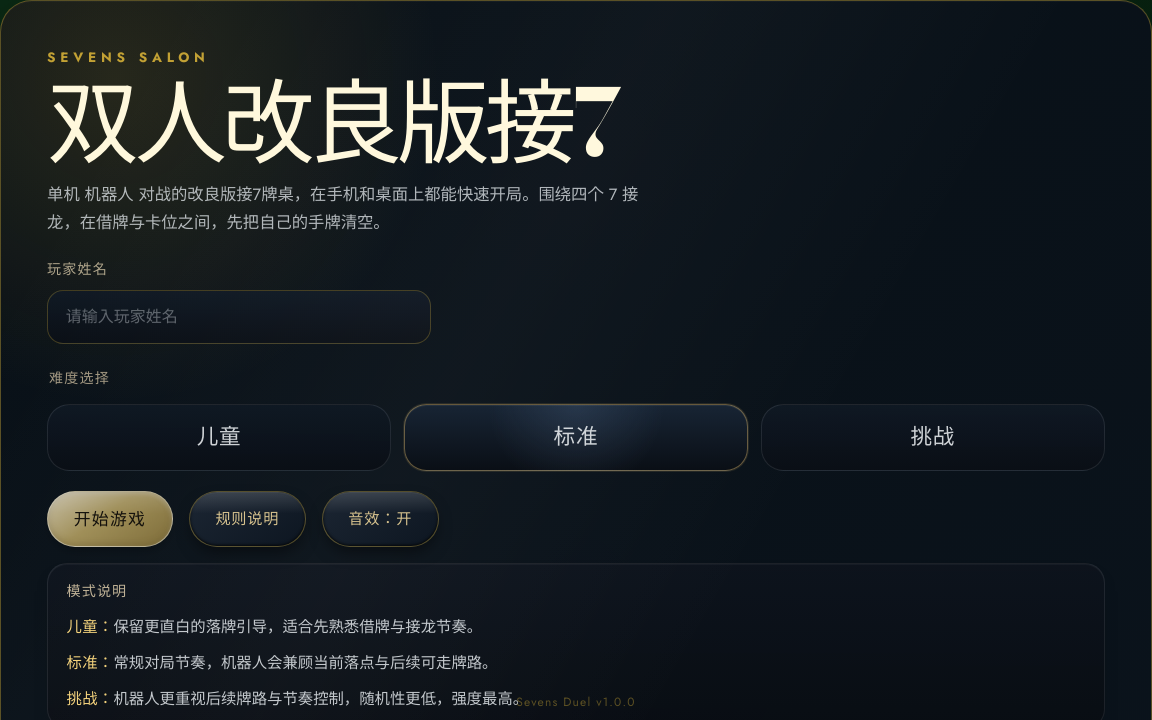
Test case: starts a game after selecting a difficulty and entering a player name
Click the radio button labelled "儿童".
click(219, 437)  # box [47,404,391,471]
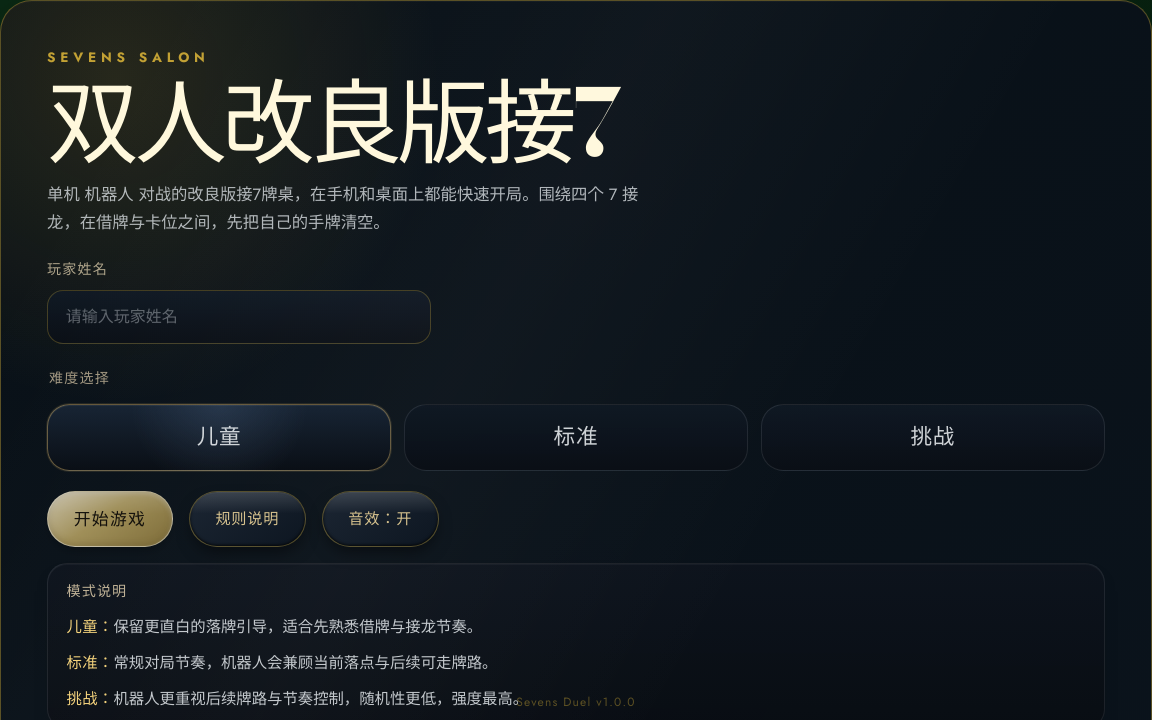
Type "张三" into the field labelled "玩家姓名".
click(239, 317); type("张三")  # box [47,290,431,344]
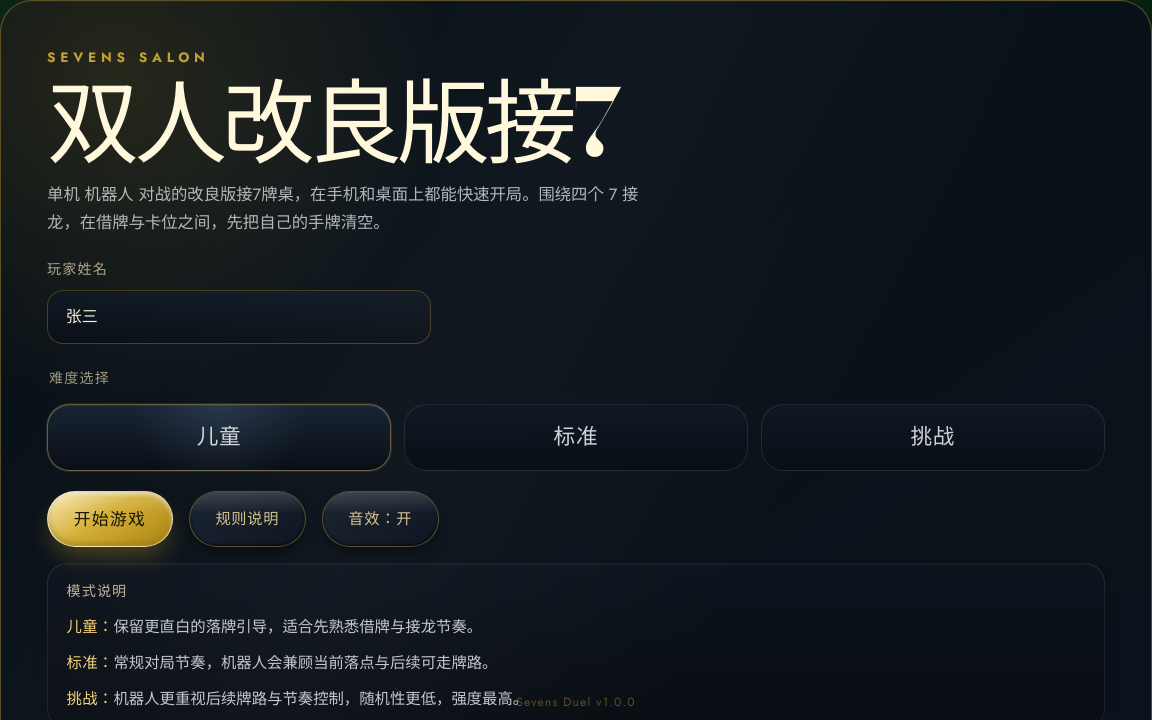
Click the button "开始游戏".
click(110, 519)  # box [47,491,173,547]
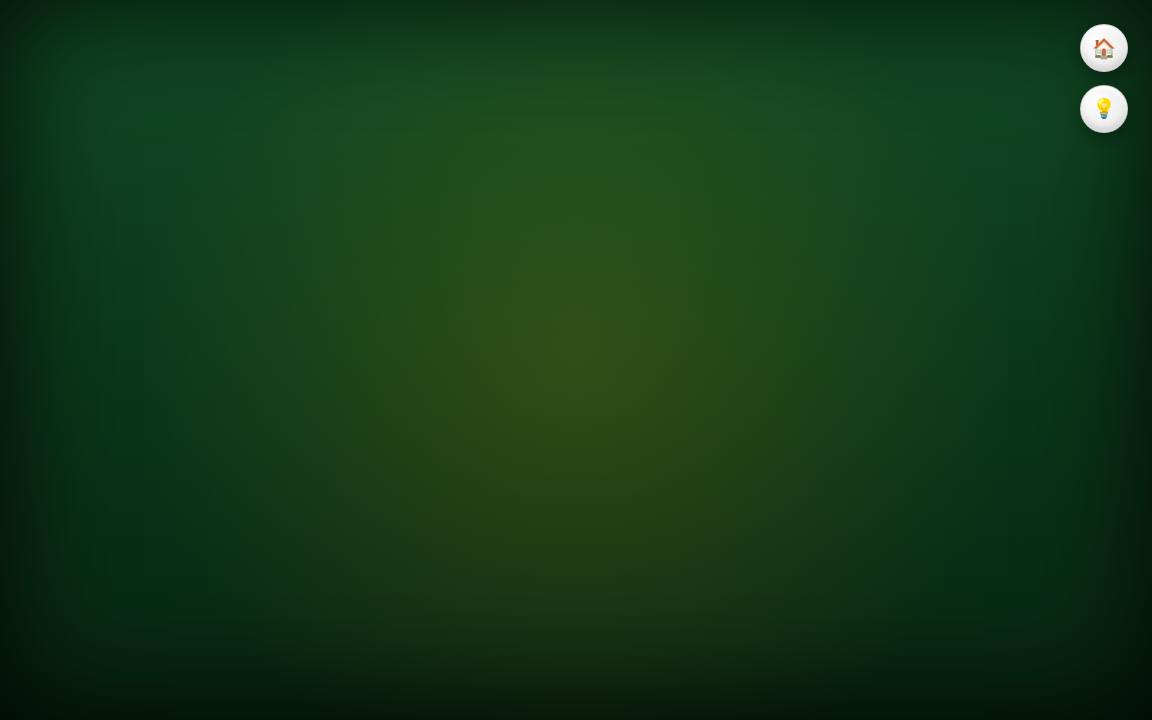
Check: the element named "对局牌桌，儿童" is shown
